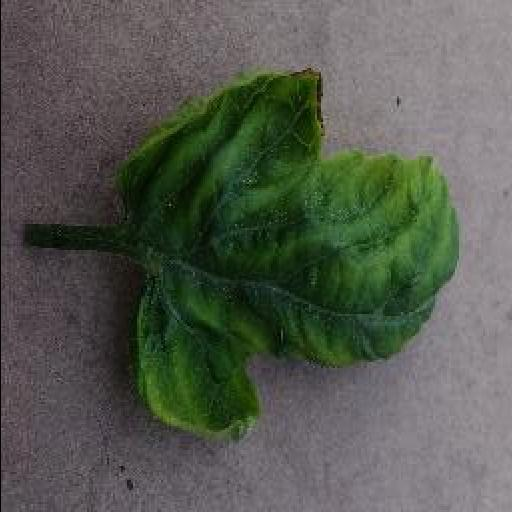disease_tomato: (104, 70, 462, 440)
